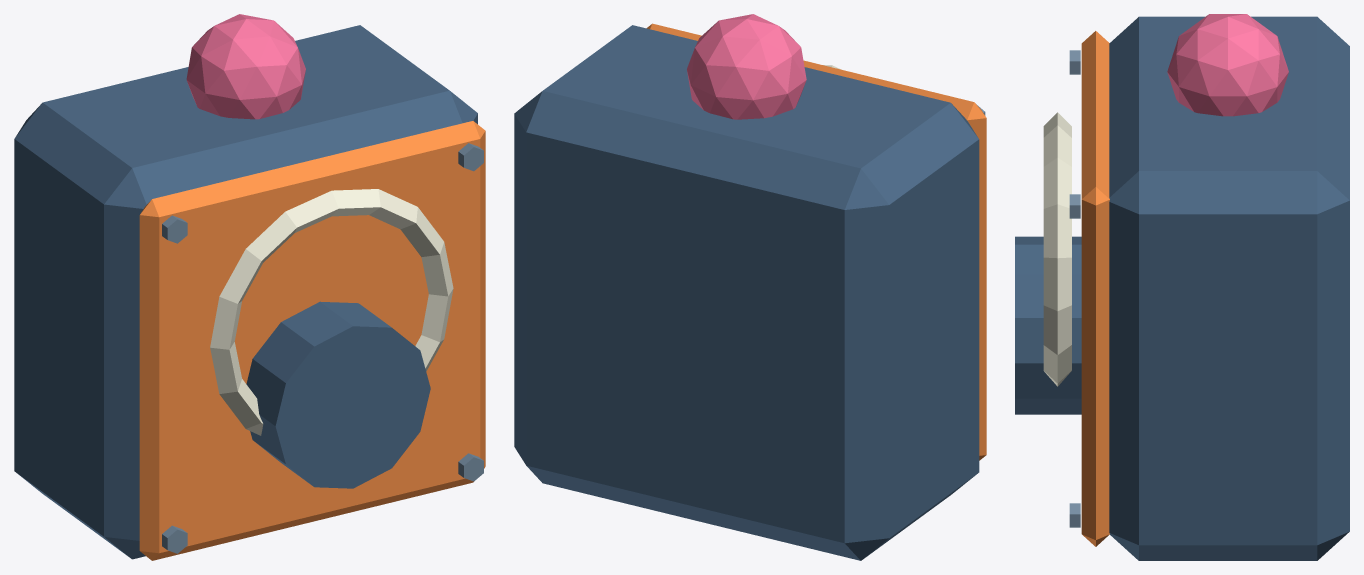
Rendered from decoy.glb.
The picture shows the model from 3 angles, left to right: view 1: azimuth 30°, elevation 25°; view 2: azimuth 150°, elevation 25°; view 3: azimuth 270°, elevation 25°; orthographic projection.
Parts seen in each view (by area): view 1: Front armor.006, Structural core.006, Beacon pedestal, Signal antenna, Beacon light; view 2: Structural core.006, Beacon light, Front armor.006; view 3: Structural core.006, Front armor.006, Beacon light, Beacon pedestal, Signal antenna.
Boxes of the visible parts, x1=… form: Front armor.006: x1=139, y1=121, x2=485, y2=560; Structural core.006: x1=14, y1=25, x2=477, y2=559; Beacon pedestal: x1=246, y1=301, x2=430, y2=488; Signal antenna: x1=210, y1=189, x2=453, y2=435; Beacon light: x1=186, y1=14, x2=305, y2=119; Structural core.006: x1=514, y1=25, x2=979, y2=560; Beacon light: x1=687, y1=14, x2=806, y2=119; Front armor.006: x1=646, y1=23, x2=986, y2=460; Structural core.006: x1=1109, y1=16, x2=1349, y2=560; Front armor.006: x1=1081, y1=31, x2=1109, y2=546; Beacon light: x1=1167, y1=14, x2=1288, y2=116; Beacon pedestal: x1=1015, y1=236, x2=1081, y2=414; Signal antenna: x1=1043, y1=112, x2=1071, y2=386.
Bounding box in the file's own units: 1.06 × 1.27 × 0.825.
